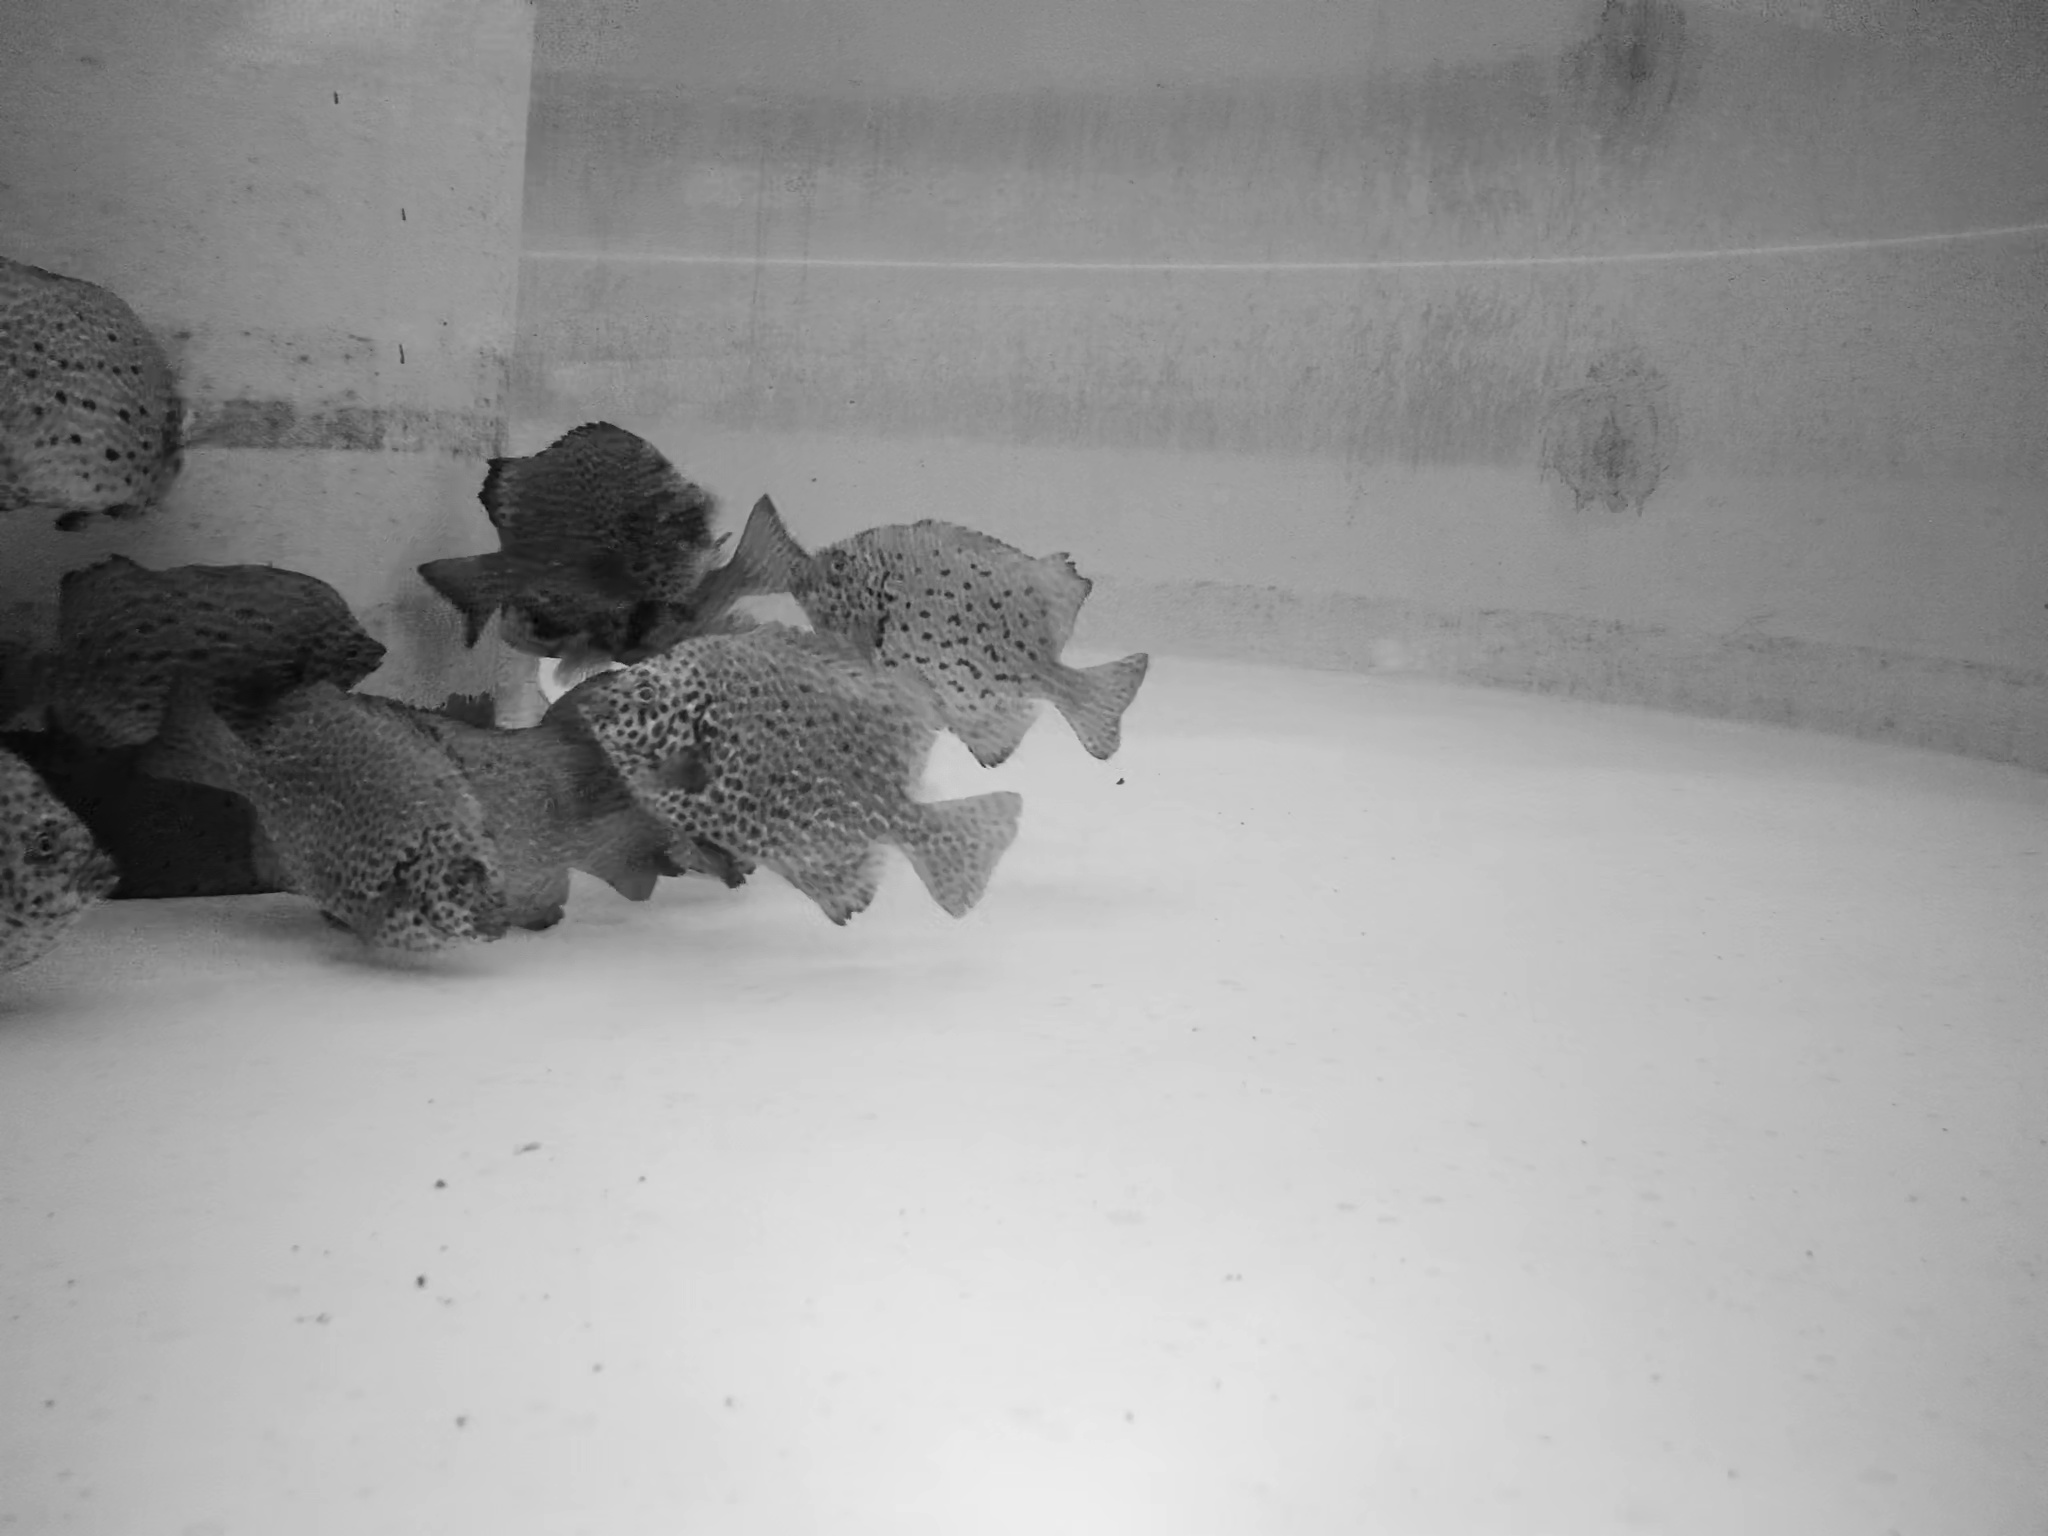fish: (568, 636, 1022, 925), (164, 670, 493, 957), (800, 507, 1150, 774), (416, 421, 718, 660), (502, 663, 779, 904), (58, 558, 384, 737), (8, 253, 187, 532), (558, 503, 814, 660), (2, 758, 127, 981)
